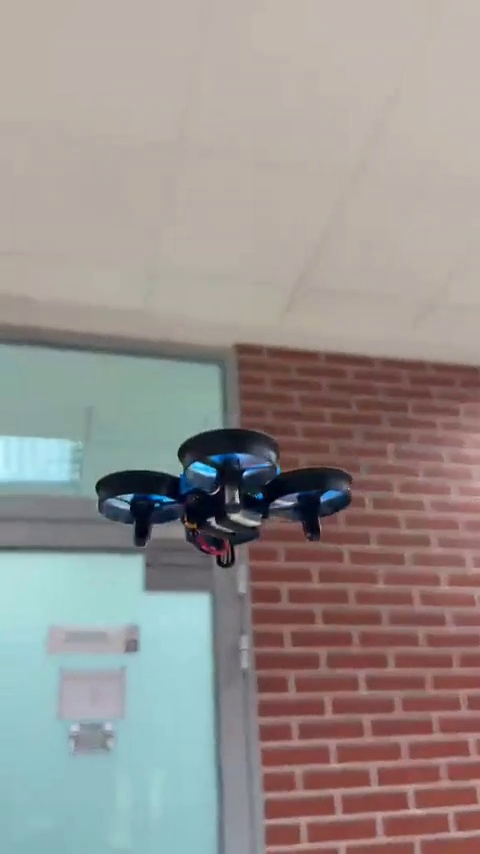drone: (83, 430, 355, 566)
